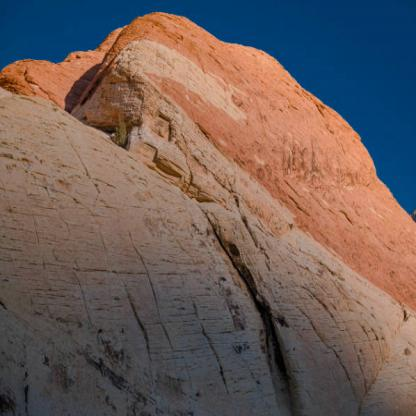Sedimentary_Sandstone: (1, 116, 69, 415), (113, 16, 207, 118), (110, 196, 202, 292), (0, 35, 106, 114), (210, 38, 277, 154), (289, 114, 342, 210), (140, 125, 205, 181), (345, 218, 405, 278)
